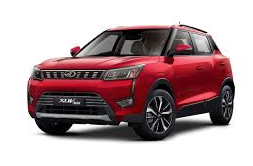car: (24, 21, 236, 142)
